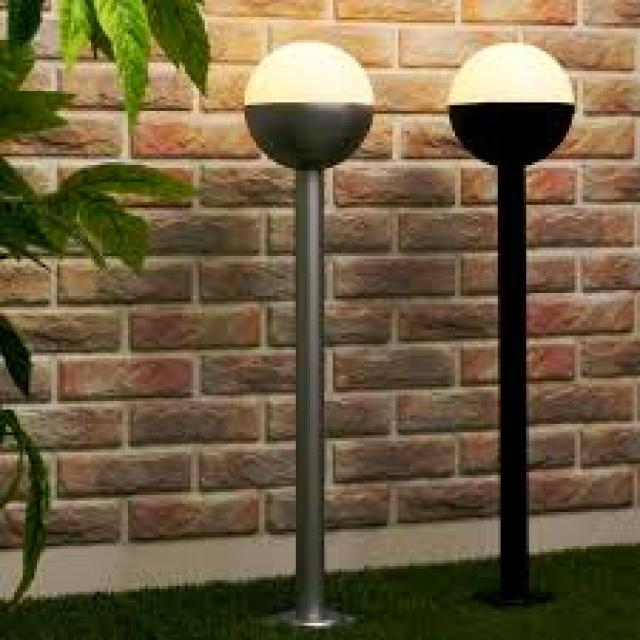bollard: (241, 25, 382, 640), (443, 34, 591, 610)
